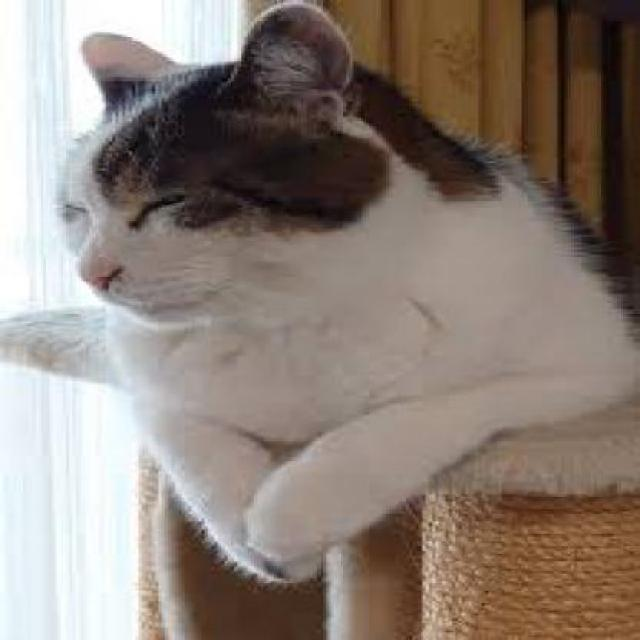Not_a_Chicken: (41, 4, 619, 546)
